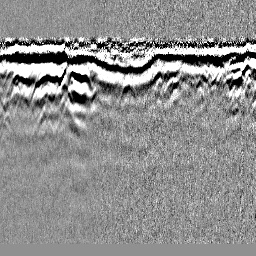cavity: (118, 77, 137, 105)
